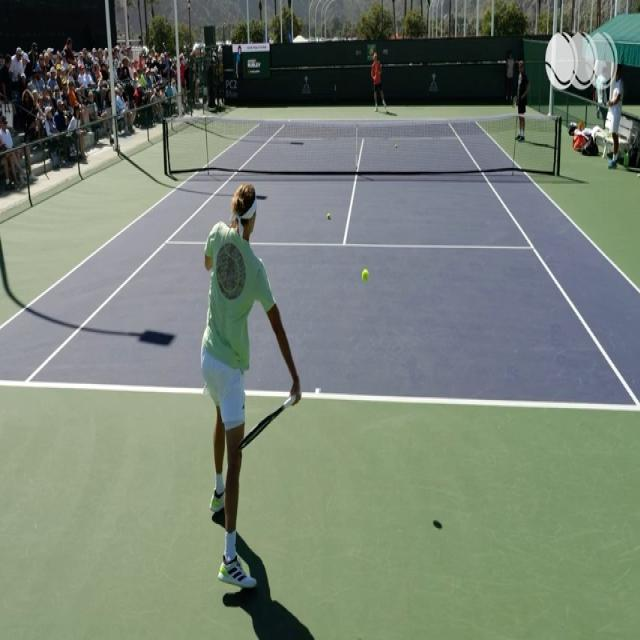backhand-stroke: (193, 176, 304, 583)
